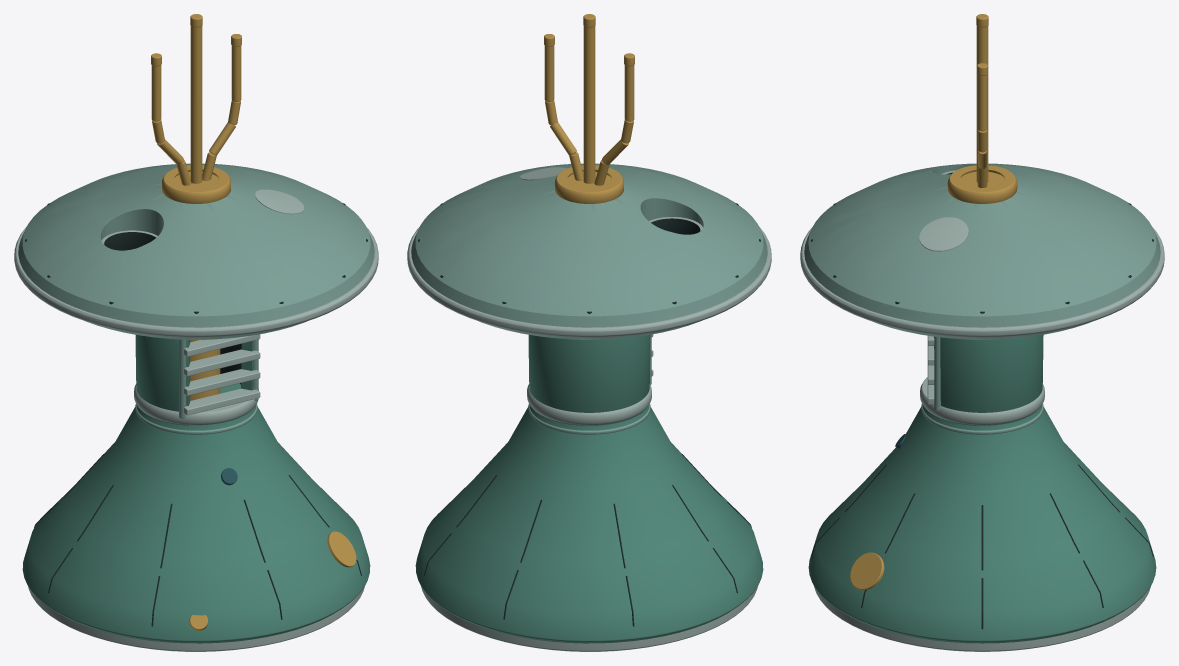
3 views of the same model, side by side, from view 1: azimuth 30°, elevation 25°; view 2: azimuth 150°, elevation 25°; view 3: azimuth 270°, elevation 25° (orthographic).
Visible parts, largest first — view 1: CPU flared waisted foundation, CPU broad upper saucer, CPU saucer perimeter machined rim, CPU neck with actual grille opening, CPU foundation ground lip, CPU crown central conductor, CPU lower neck collar, CPU crown brass seating ring, CPU grille horizontal structural fin, CPU grille horizontal structural fin.002, CPU grille horizontal structural fin.001, CPU pale conformal roof service cap (+8 smaller); view 2: CPU flared waisted foundation, CPU broad upper saucer, CPU neck with actual grille opening, CPU saucer perimeter machined rim, CPU foundation ground lip, CPU crown central conductor, CPU lower neck collar, CPU crown brass seating ring, CPU roof well inner sleeve, CPU crown outer conductor.003, CPU crown outer conductor.007, CPU foundation upper seam; view 3: CPU flared waisted foundation, CPU broad upper saucer, CPU neck with actual grille opening, CPU saucer perimeter machined rim, CPU foundation ground lip, CPU lower neck collar, CPU crown brass seating ring, CPU pale conformal roof service cap, CPU foundation circular service cap, CPU crown central conductor, CPU crown outer conductor.007, CPU foundation upper seam.
Boxes of the visible parts, x1,y1,x2,y2 form: CPU flared waisted foundation: [22, 383, 370, 643]; CPU broad upper saucer: [18, 163, 374, 339]; CPU saucer perimeter machined rim: [14, 226, 378, 337]; CPU neck with actual grille opening: [135, 335, 253, 425]; CPU foundation ground lip: [28, 586, 364, 651]; CPU crown central conductor: [190, 26, 202, 183]; CPU lower neck collar: [134, 384, 258, 425]; CPU crown brass seating ring: [162, 165, 230, 203]; CPU grille horizontal structural fin: [184, 388, 260, 415]; CPU grille horizontal structural fin.002: [184, 349, 260, 376]; CPU grille horizontal structural fin.001: [184, 369, 260, 395]; CPU pale conformal roof service cap: [255, 189, 304, 214]; CPU flared waisted foundation: [415, 405, 763, 643]; CPU broad upper saucer: [411, 163, 767, 339]; CPU neck with actual grille opening: [528, 334, 650, 425]; CPU saucer perimeter machined rim: [407, 226, 771, 337]; CPU foundation ground lip: [421, 586, 757, 651]; CPU crown central conductor: [583, 26, 595, 183]; CPU lower neck collar: [527, 384, 651, 425]; CPU crown brass seating ring: [555, 165, 623, 203]; CPU roof well inner sleeve: [649, 217, 702, 234]; CPU crown outer conductor.003: [624, 65, 634, 121]; CPU crown outer conductor.007: [544, 45, 554, 101]; CPU foundation upper seam: [528, 404, 650, 434]; CPU flared waisted foundation: [808, 404, 1156, 643]; CPU broad upper saucer: [804, 163, 1160, 339]; CPU neck with actual grille opening: [934, 334, 1043, 425]; CPU saucer perimeter machined rim: [800, 227, 1164, 337]; CPU foundation ground lip: [813, 585, 1151, 651]; CPU lower neck collar: [920, 377, 1044, 425]; CPU crown brass seating ring: [947, 165, 1017, 203]; CPU pale conformal roof service cap: [919, 217, 968, 251]; CPU foundation circular service cap: [850, 552, 884, 590]; CPU crown central conductor: [976, 26, 988, 182]; CPU crown outer conductor.007: [977, 75, 987, 131]; CPU foundation upper seam: [921, 403, 1043, 434].
Size of the model in its own units: 2.37 by 4.07 by 2.37.
